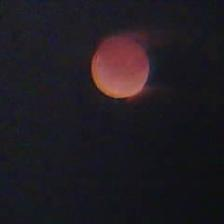infertile: (88, 30, 152, 101)
